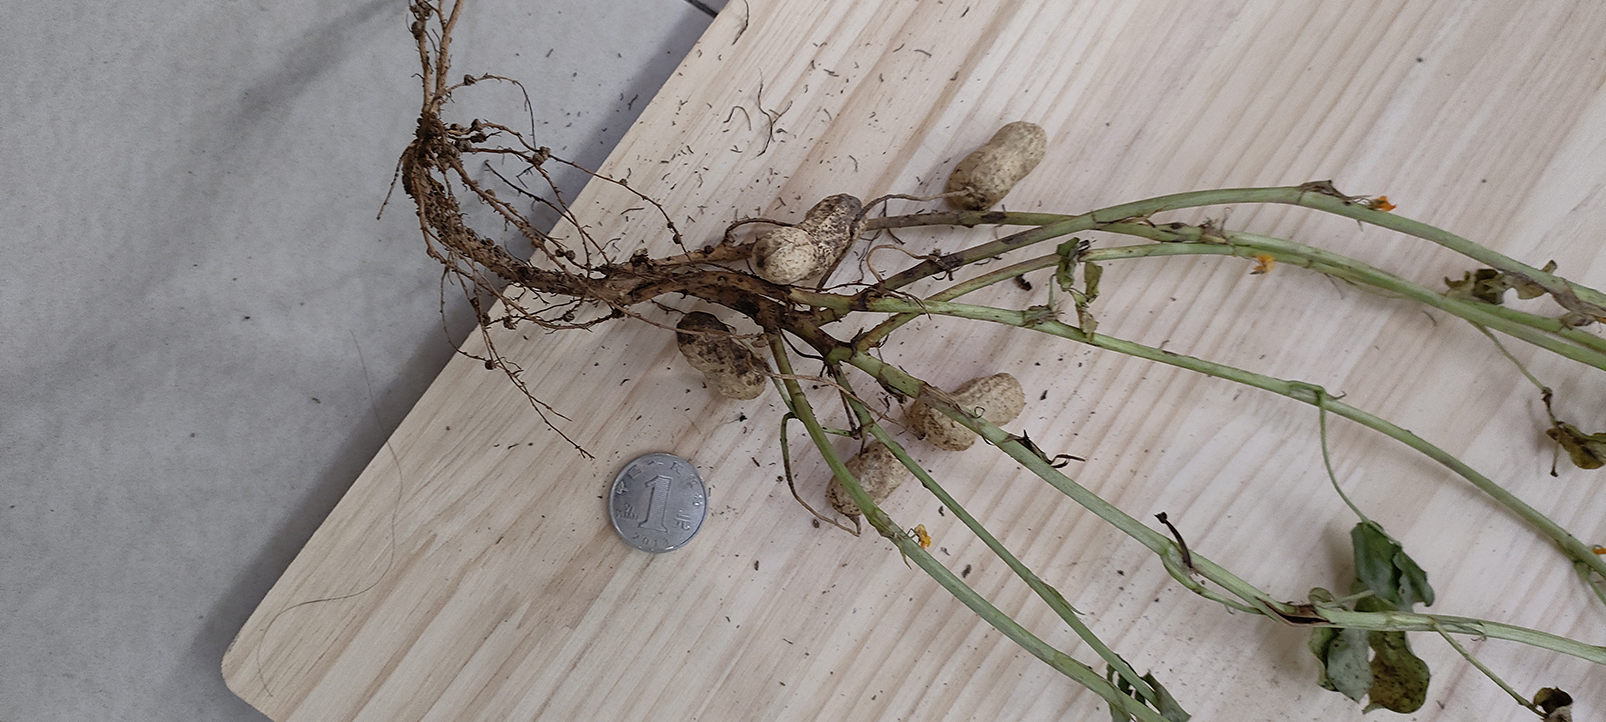h: (750, 193, 869, 284), (945, 121, 1047, 209), (913, 372, 1026, 450)
l: (678, 310, 764, 399), (832, 439, 910, 512)
